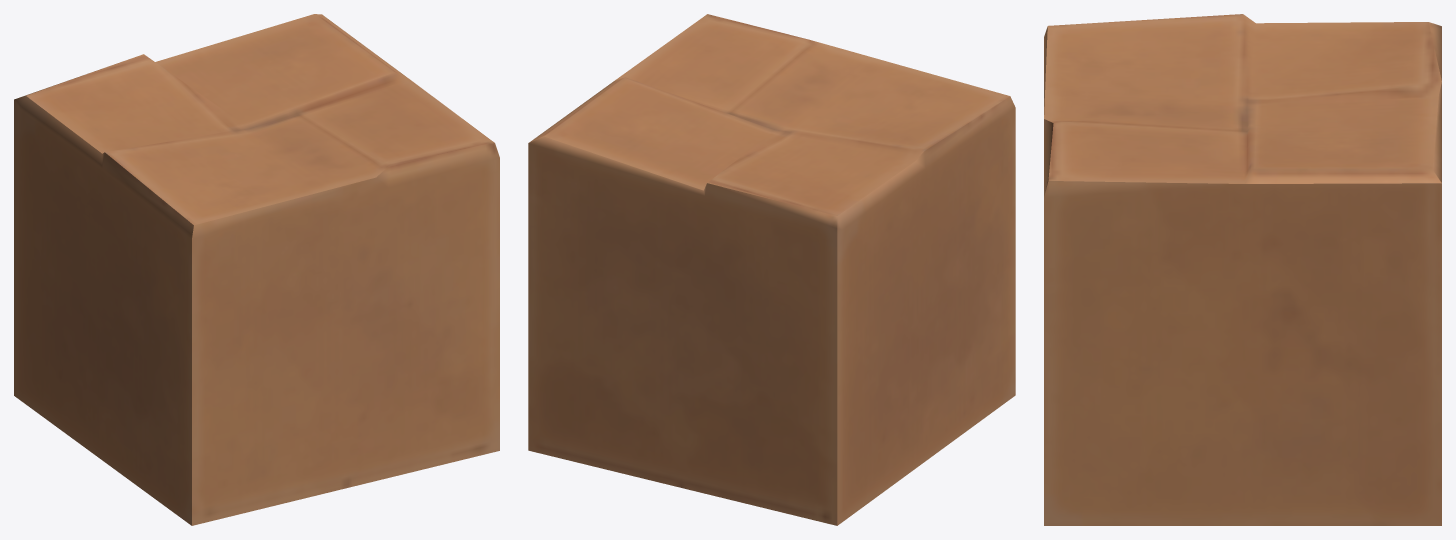
File: Pfb_PaperBox__10.fbx
3 renders of one model, left to right at view 1: azimuth 30°, elevation 25°; view 2: azimuth 150°, elevation 25°; view 3: azimuth 270°, elevation 25°, orthographic. The views are drawn at different scales.
Parts seen in each view (by area): view 1: Mat_PaperBox_01_01; view 2: Mat_PaperBox_01_01; view 3: Mat_PaperBox_01_01.
Boxes of the visible parts, x1,y1,x2,y2 form: Mat_PaperBox_01_01: [14, 14, 499, 525]; Mat_PaperBox_01_01: [528, 14, 1015, 525]; Mat_PaperBox_01_01: [1044, 14, 1441, 525].
Bounding box in the file's own units: 1 × 0.97 × 1.
Materials: 1 (1 with a texture image).
